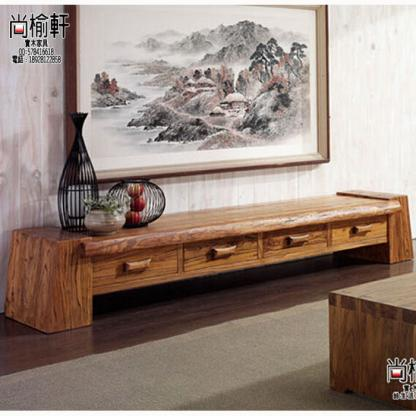TV stand: (3, 186, 416, 336)
